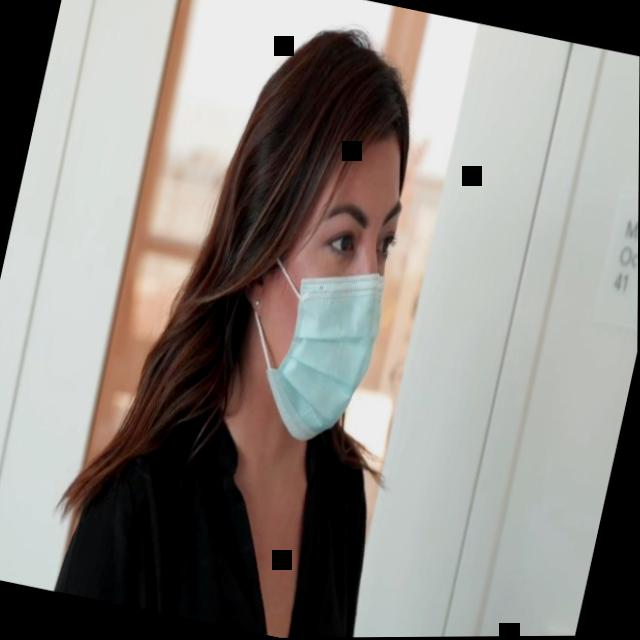Mask: (227, 111, 422, 452)
